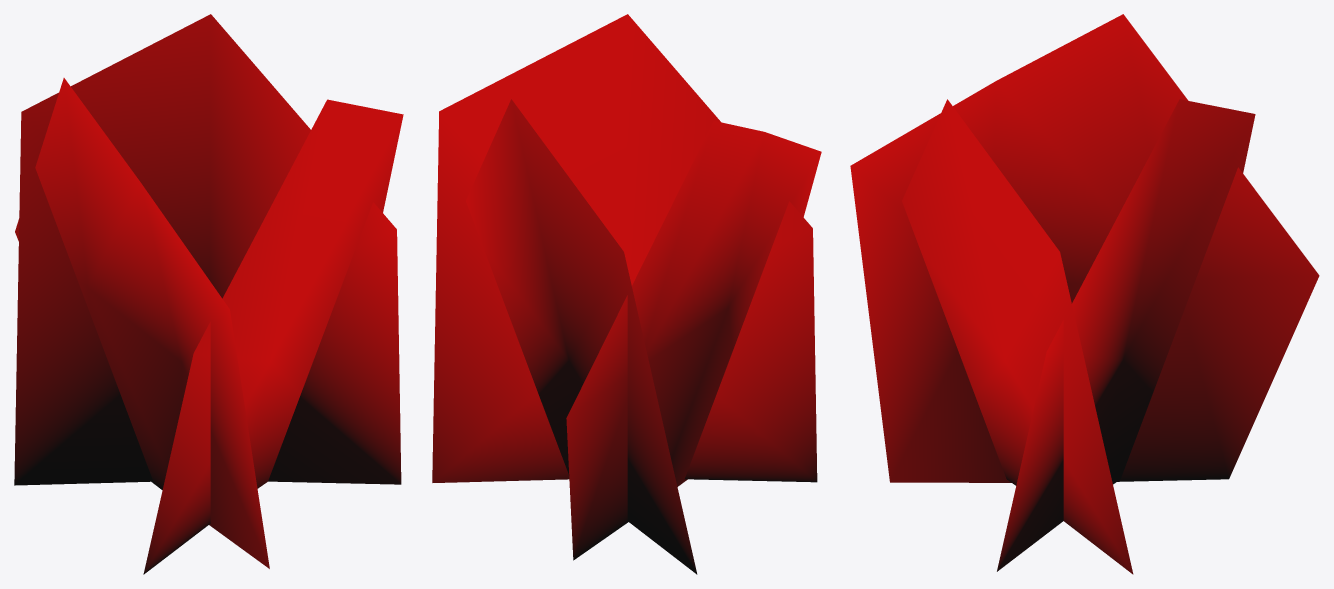
The model's file is SavannaGrass3.fbx.
The picture shows the model from 3 angles, left to right: view 1: azimuth 30°, elevation 25°; view 2: azimuth 150°, elevation 25°; view 3: azimuth 270°, elevation 25°; orthographic projection.
Visible parts, largest first — view 1: SavannaGrass3; view 2: SavannaGrass3; view 3: SavannaGrass3.
Boxes of the visible parts, bbox=[...] form: SavannaGrass3: bbox=[14, 14, 403, 574]; SavannaGrass3: bbox=[432, 14, 821, 574]; SavannaGrass3: bbox=[850, 14, 1319, 574].
Bounding box in the file's own units: 52.18 × 65.82 × 65.69.
